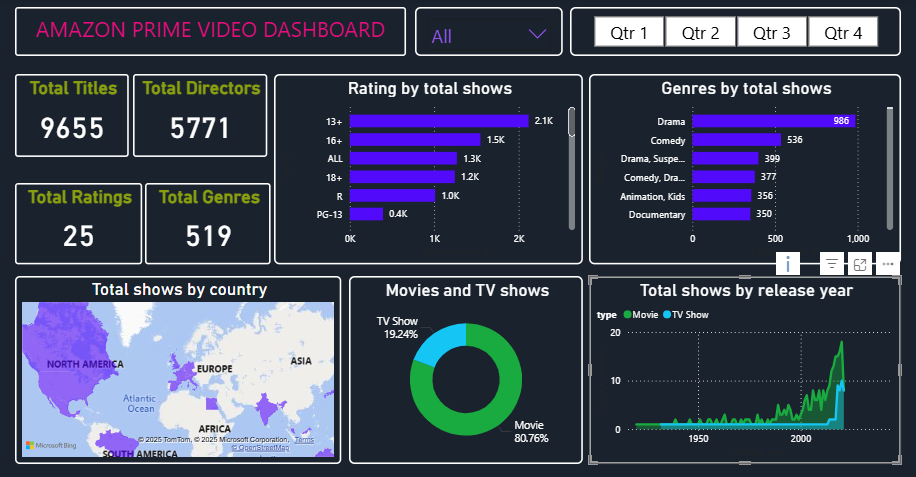

This screenshot's page, from the dashboard's own definition file:
{"tool":"powerbi","page":{"name":"Page 1","canvas":[1280,720],"ordinal":0},"visuals":[{"type":"filledMap","title":"Total shows by country","fields":{"Category":["amazon_prime_titles.country"]},"box":[19,349.4,412.7,238],"z":0},{"type":"donutChart","title":"Movies and TV shows","fields":{"Category":["amazon_prime_titles.type"],"Y":["Sum(amazon_prime_titles.release_year)"]},"box":[441.8,349.4,296.2,238],"z":1},{"type":"areaChart","title":"Total shows by release year ","fields":{"Category":["amazon_prime_titles.release_year"],"Y":["Count(amazon_prime_titles.country)"],"Series":["amazon_prime_titles.type"]},"box":[745.6,349.4,394.9,238],"z":2},{"type":"barChart","title":"Rating by total shows","fields":{"Category":["amazon_prime_titles.rating"],"Y":["CountNonNull(amazon_prime_titles.show_id)"]},"box":[346.8,93.7,391.1,240.5],"z":4},{"type":"barChart","title":"Genres by total shows","fields":{"Category":["amazon_prime_titles.listed_in"],"Y":["CountNonNull(amazon_prime_titles.show_id)"]},"box":[745.6,93.7,394.9,240.5],"z":5},{"type":"card","title":"Total Genres","fields":{"Values":["Count(amazon_prime_titles.listed_in)"]},"box":[183.5,231.6,159.5,102.5],"z":8},{"type":"card","title":"Total Directors","fields":{"Values":["Count(amazon_prime_titles.director)"]},"box":[168.4,93.7,169.6,105.1],"z":9},{"type":"card","title":"Total Titles","fields":{"Values":["Count(amazon_prime_titles.title)"]},"box":[19,93.7,144.3,105.1],"z":12},{"type":"card","title":"Total Ratings","fields":{"Values":["Count(amazon_prime_titles.rating)"]},"box":[19,231.6,160.8,102.5],"z":13},{"type":"textbox","box":[19,8.9,494.9,62],"z":14},{"type":"slicer","title":"country","fields":{"Values":["amazon_prime_titles.date_added.Variation.Date Hierarchy.Quarter"]},"box":[721.5,8.9,419,62],"z":16},{"type":"slicer","fields":{"Values":["amazon_prime_titles.country"]},"box":[525.3,8.9,187.3,62],"z":17}]}

Visuals, with their boxes on the page's 1280x720 design canvas (x1, y1, x2, y2). These are canvas units, not pixel positions in the 916x477 screenshot, which may show the page scaled, cropped or inside an application window:
"Total shows by country" filledMap: 19:349:432:587
"Movies and TV shows" donutChart: 442:349:738:587
"Total shows by release year " areaChart: 746:349:1140:587
"Rating by total shows" barChart: 347:94:738:334
"Genres by total shows" barChart: 746:94:1140:334
"Total Genres" card: 184:232:343:334
"Total Directors" card: 168:94:338:199
"Total Titles" card: 19:94:163:199
"Total Ratings" card: 19:232:180:334
textbox: 19:9:514:71
"country" slicer: 722:9:1140:71
slicer - amazon_prime_titles.country: 525:9:713:71
